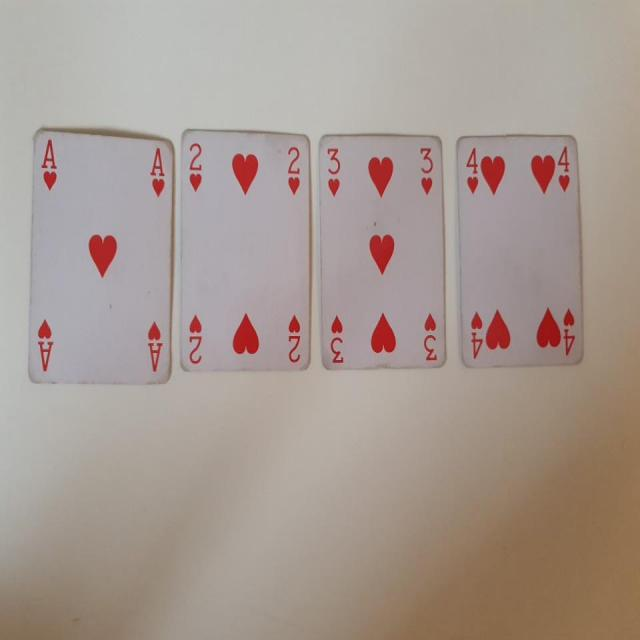2 Hearts: (172, 124, 316, 377)
3 Hearts: (315, 126, 450, 379)
4 Hearts: (450, 118, 589, 382)
A Hearts: (23, 125, 178, 394)
